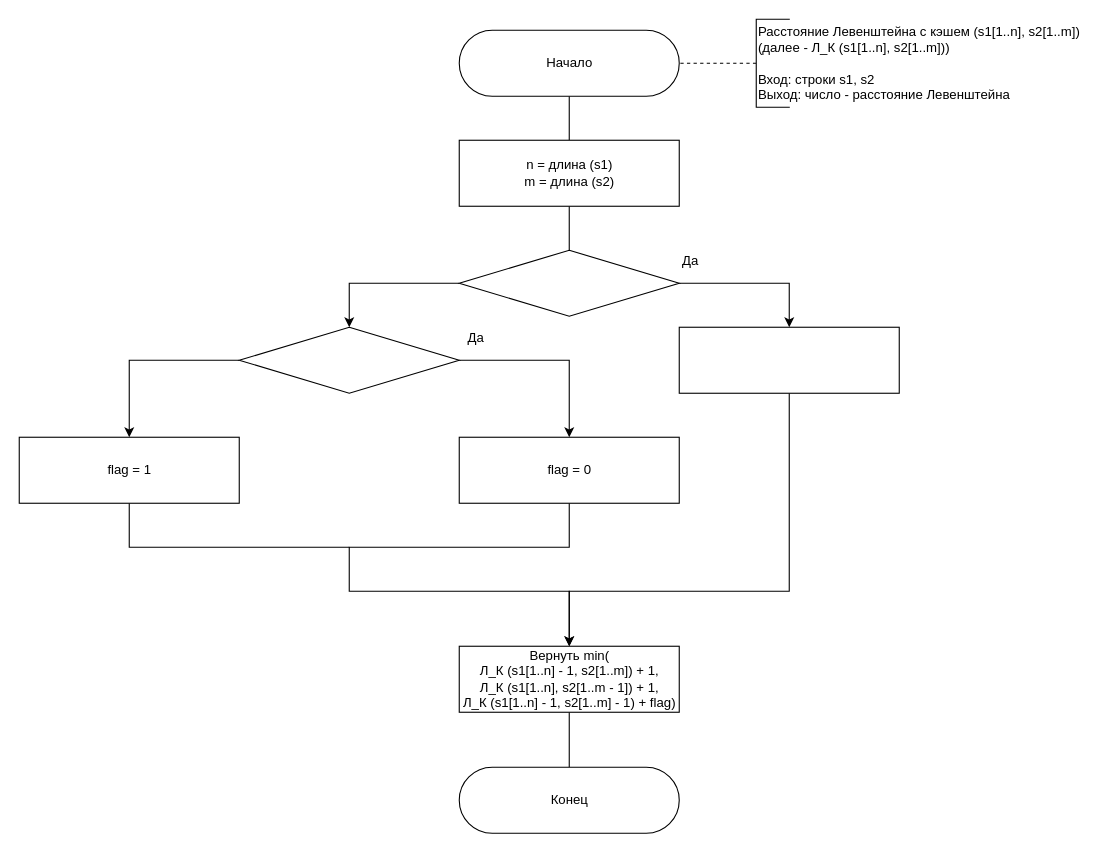
Image size: 1100x853. Some labels were removed from this diagram. The shapes that lost their labels are listed below. From the top down, each one's centre as x and y in pixels, then its label:
At [568,282]: "n == 0 или m == 0".
At [348,359]: "s1[n - 1] == s2[m - 1]".
At [788,359]: "Вернуть |n - m|".
